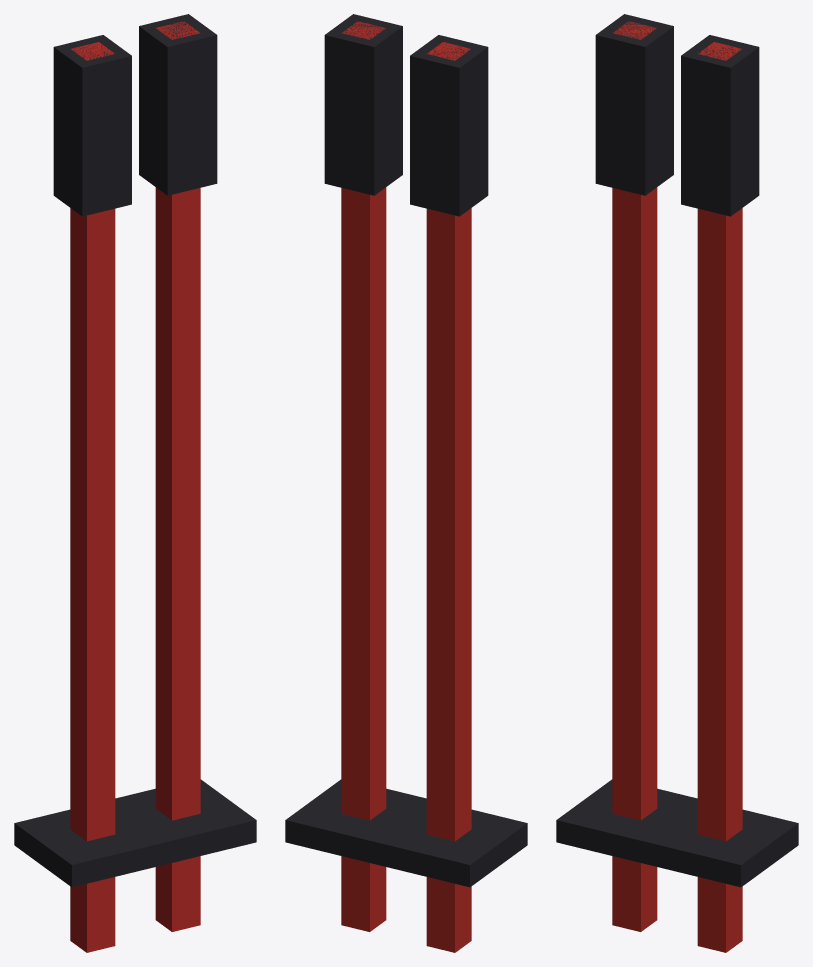
Rendered from ntu-ski-poles.glb.
3 renders of one model, left to right at view 1: azimuth 30°, elevation 25°; view 2: azimuth 150°, elevation 25°; view 3: azimuth 330°, elevation 25°, orthographic.
Visible parts, largest first — view 1: box-prop; view 2: box-prop; view 3: box-prop.
Part boxes in pixels (x1,y1,x2,y2): box-prop: (14, 14, 256, 952); box-prop: (285, 14, 527, 952); box-prop: (556, 14, 798, 952).
Bounding box in the file's own units: 0.26 × 1.2 × 0.14.
